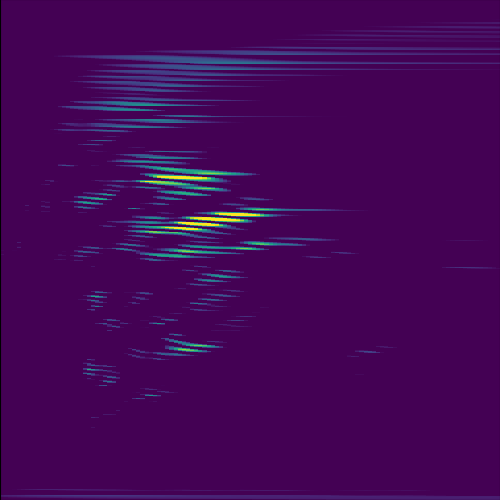semblance: (139, 204, 285, 238), (128, 163, 244, 195)
